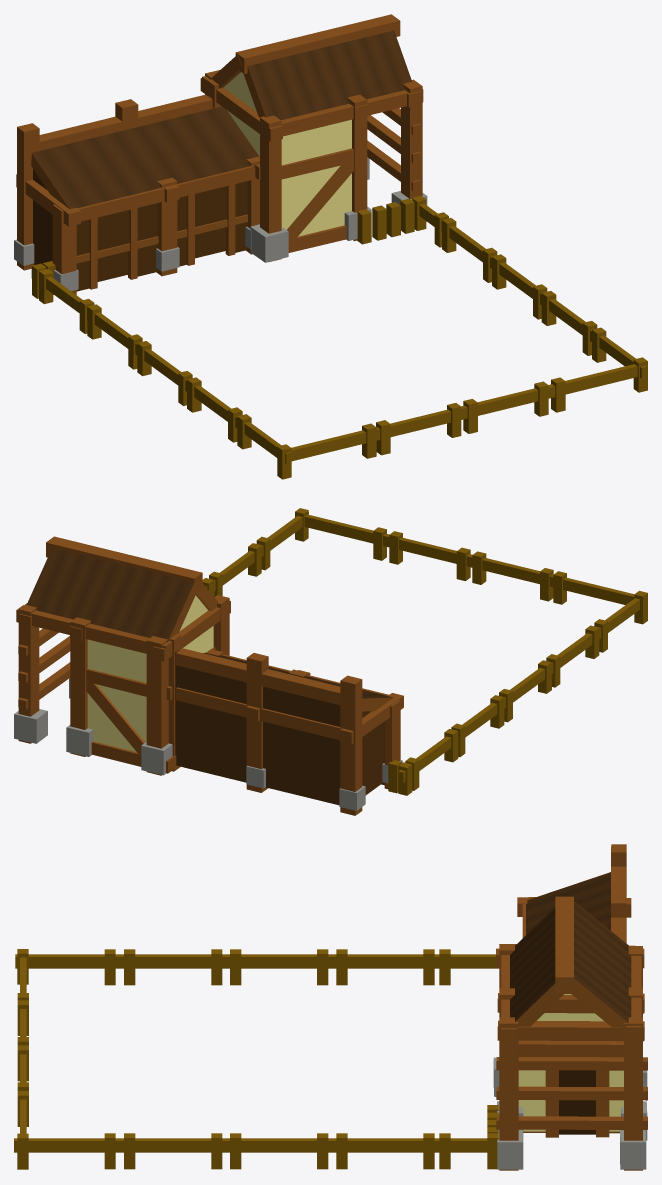
File: swineherd.fbx
3 views of the same model, one above another, from view 1: azimuth 30°, elevation 25°; view 2: azimuth 150°, elevation 25°; view 3: azimuth 270°, elevation 25° (orthographic). The views are drawn at different scales.
Visible parts, largest first — view 1: polySurface243; view 2: polySurface243; view 3: polySurface243.
Part boxes in pixels (x1=…): polySurface243: x1=14, y1=14, x2=647, y2=479; polySurface243: x1=14, y1=508, x2=647, y2=815; polySurface243: x1=14, y1=844, x2=647, y2=1170.
Bounding box in the file's own units: 209 × 99.07 × 291.
Materials: 1 (1 with a texture image).
